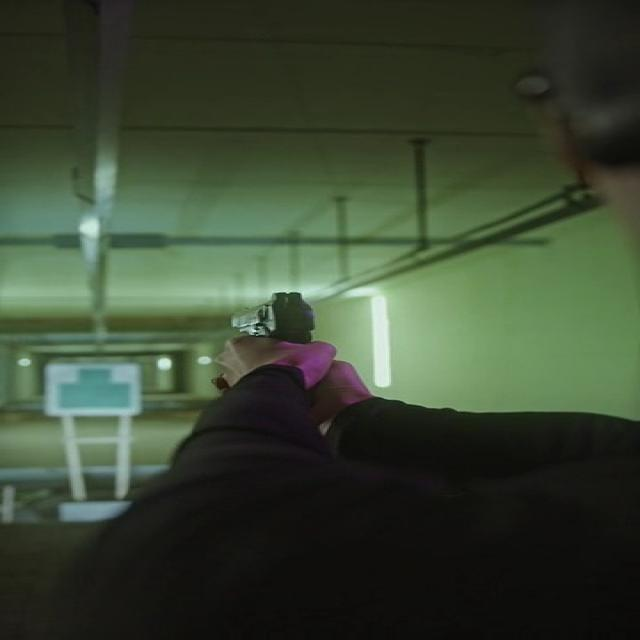Gun_Holder: (181, 284, 428, 442)
